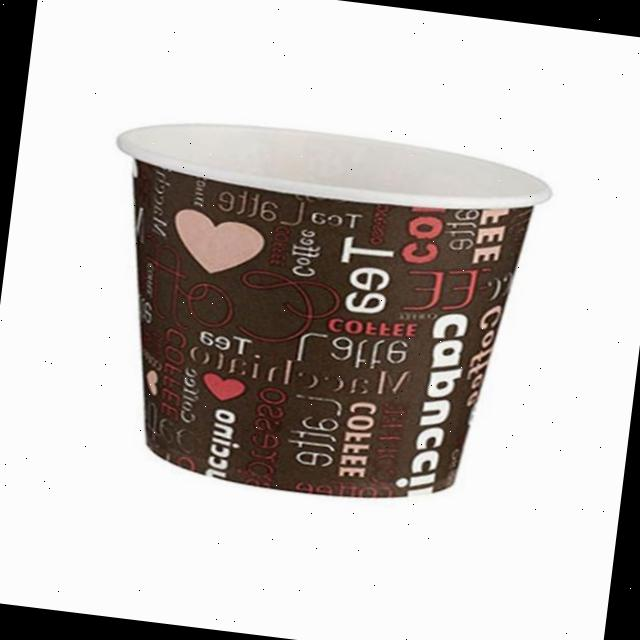trash: (56, 105, 574, 524)
